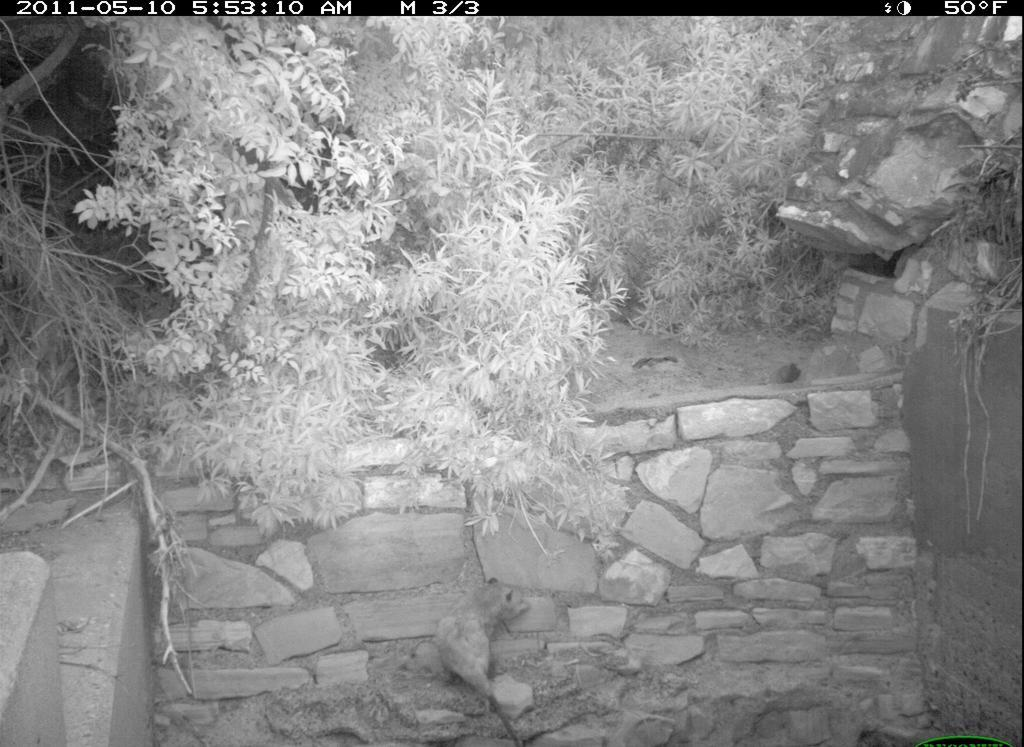opossum: (426, 571, 536, 747)
